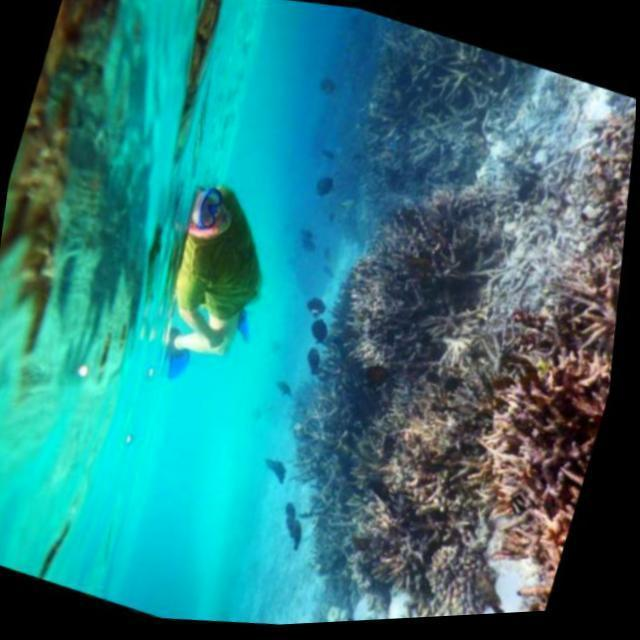Dead Coral: (230, 122, 573, 630), (491, 325, 624, 492), (560, 81, 638, 267)
